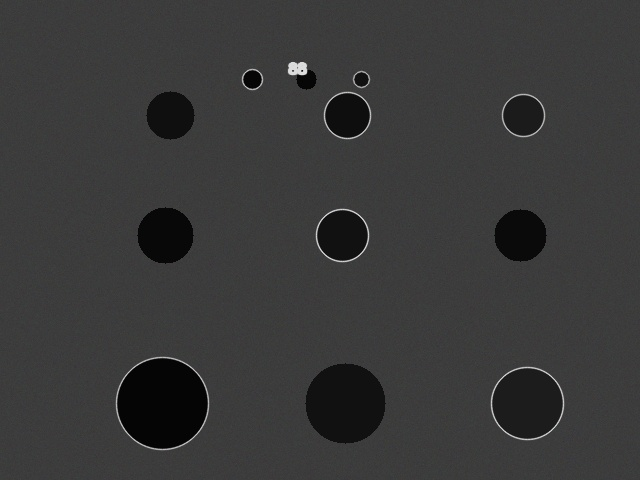hole: (116, 357, 208, 449), (305, 363, 385, 443), (491, 367, 563, 439), (137, 207, 193, 263), (316, 209, 368, 261), (494, 209, 546, 261), (146, 91, 194, 139), (324, 92, 370, 138), (502, 94, 544, 136), (242, 69, 262, 89), (296, 69, 316, 89), (353, 71, 369, 87)
